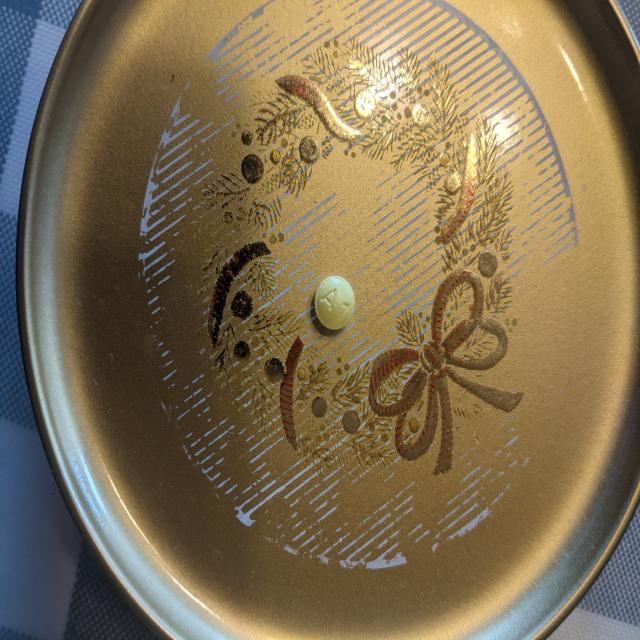non-organic waste: (313, 274, 356, 332)
